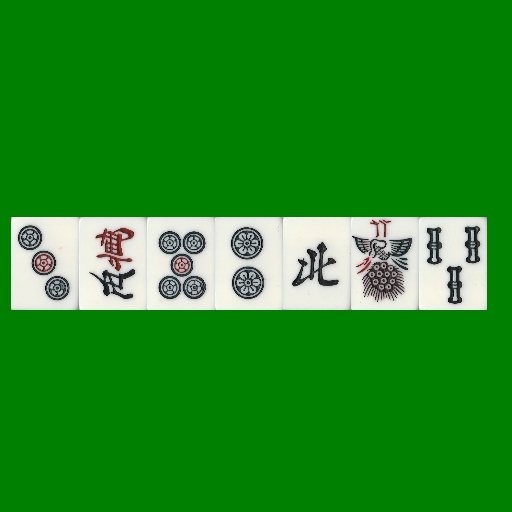1s: (351, 217, 419, 310)
2p: (215, 217, 283, 310)
3p: (11, 217, 79, 310)
3s: (419, 217, 487, 310)
5m: (79, 217, 147, 310)
5p: (147, 217, 215, 310)
north: (283, 217, 351, 310)
